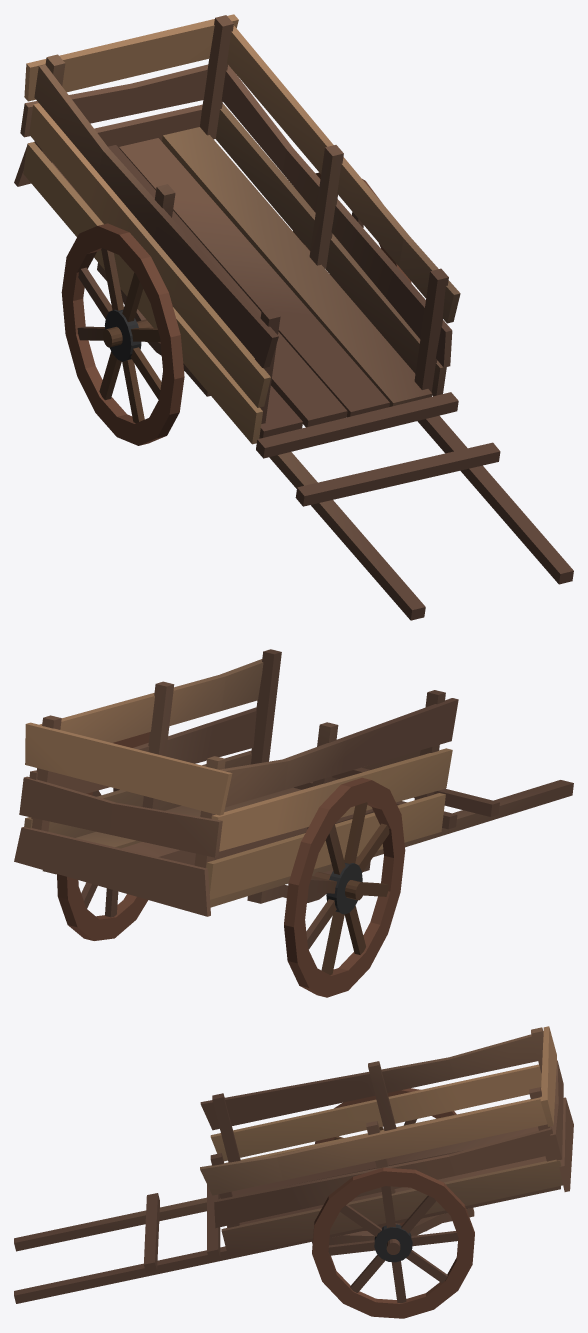
Rendered from Cart Medium.glb.
The picture shows the model from 3 angles, top to bottom: view 1: azimuth 30°, elevation 25°; view 2: azimuth 150°, elevation 25°; view 3: azimuth 270°, elevation 25°; orthographic projection. The views are drawn at different scales.
Parts seen in each view (by area): view 1: Cart Medium size; view 2: Cart Medium size; view 3: Cart Medium size.
Boxes of the visible parts, x1,y1,x2,y2 form: Cart Medium size: (14,14,573,620); Cart Medium size: (14,649,573,997); Cart Medium size: (14,1026,573,1318).
Size of what is drawn, in the model's own units: 1.8 by 1.96 by 4.56.
1 material, 1 textured.
